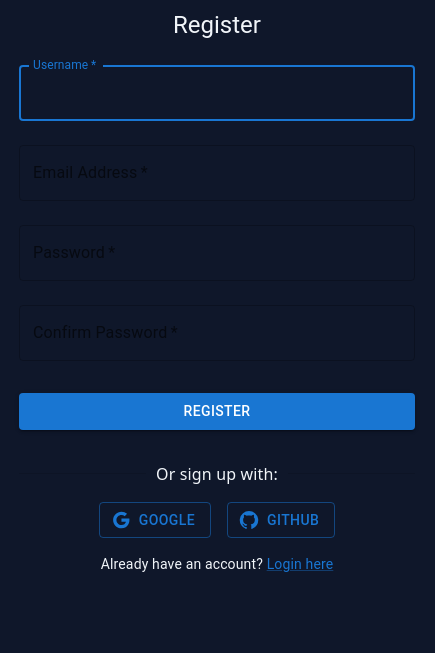
Test case: RegisterPage › registers successfully: shows the success alert, then redirects to /login after 2s
In the field labelled "Username *": (217, 93) [19,65,415,121], type "Grace"
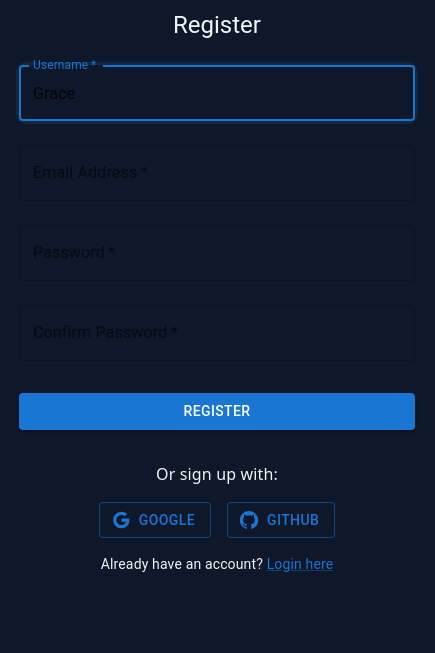
In the field labelled "Email Address *": (217, 173) [19,145,415,201], type "grace@example.com"
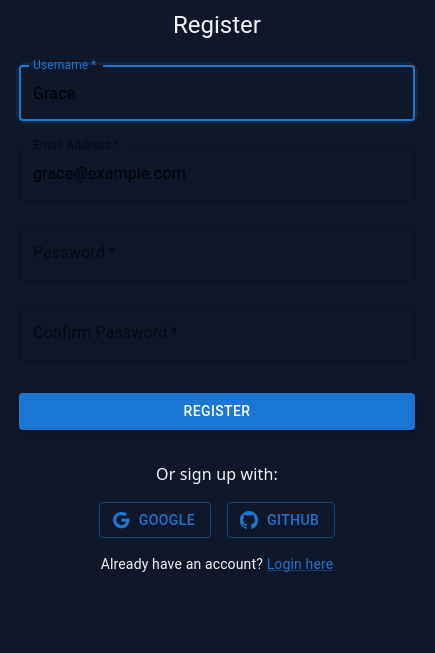
In the password field labelled "Password *": (217, 253) [19,225,415,281], type "pw-one"
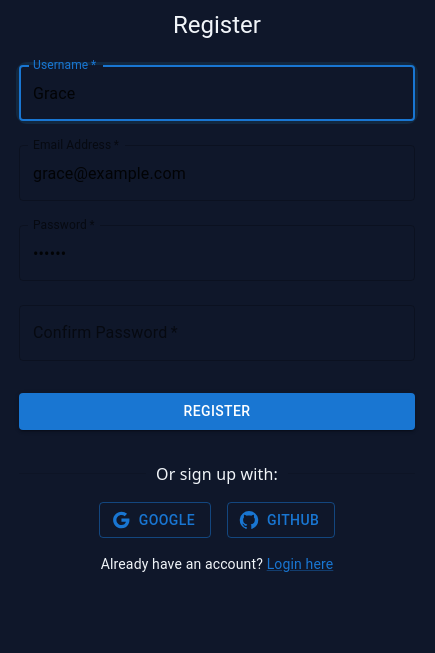
In the password field labelled "Confirm Password *": (217, 333) [19,305,415,361], type "pw-one"
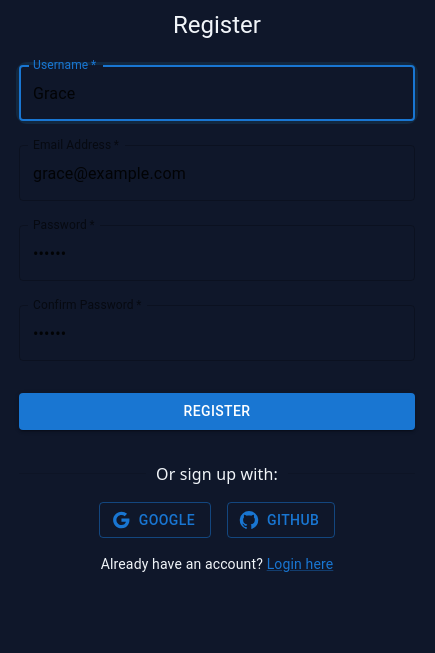
Click the button "Register": (217, 411) [19,393,415,430]
Wait 2000 ms
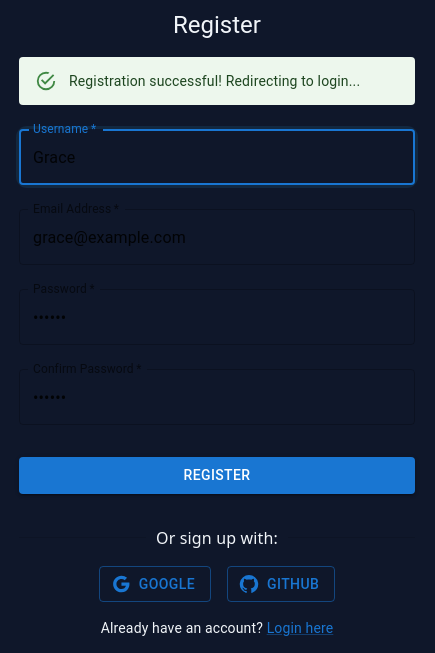
Now the text "Registration successful! Redirecting to login..." is shown, box [69,73,360,89]
